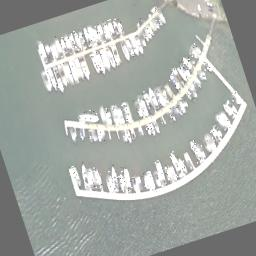boat: (76, 162, 92, 190), (106, 164, 122, 191), (52, 64, 66, 93), (77, 108, 99, 126), (168, 149, 182, 177), (120, 166, 134, 193), (154, 157, 167, 185), (189, 138, 203, 164), (146, 84, 160, 109), (77, 54, 90, 80), (89, 167, 103, 191), (68, 58, 80, 84), (142, 90, 154, 115), (203, 131, 217, 152), (94, 50, 106, 74), (63, 62, 75, 86), (86, 22, 98, 46), (36, 38, 48, 62), (136, 94, 148, 117), (72, 29, 84, 52), (46, 68, 58, 91), (85, 168, 97, 190), (108, 104, 120, 126), (120, 100, 132, 122), (118, 38, 130, 60), (109, 42, 120, 66), (100, 18, 112, 40), (104, 46, 116, 68), (100, 49, 112, 71), (56, 64, 68, 86), (80, 25, 92, 47), (40, 70, 52, 92), (171, 68, 184, 88), (178, 60, 191, 80), (104, 172, 116, 193), (157, 83, 169, 104), (89, 51, 100, 73), (74, 58, 85, 80), (102, 106, 114, 126), (153, 86, 165, 106), (168, 72, 180, 92), (214, 110, 226, 130), (218, 108, 230, 128), (222, 100, 234, 120), (52, 36, 64, 56), (146, 168, 156, 190), (105, 18, 116, 38), (63, 32, 73, 54), (175, 64, 187, 82), (225, 96, 237, 114), (182, 54, 194, 72), (98, 104, 108, 125), (129, 35, 139, 56), (71, 166, 81, 186), (130, 174, 140, 194), (162, 162, 172, 182), (133, 98, 143, 118), (134, 34, 144, 54), (124, 38, 134, 58), (96, 22, 106, 42), (68, 31, 78, 51), (178, 155, 188, 174), (210, 125, 220, 144), (77, 29, 87, 48), (58, 36, 68, 55), (44, 42, 54, 61), (117, 174, 127, 192), (163, 82, 173, 100), (110, 18, 120, 36), (134, 174, 144, 191), (196, 141, 206, 158), (190, 40, 202, 54), (116, 106, 125, 124), (152, 168, 161, 186), (92, 24, 101, 42), (50, 41, 59, 59), (168, 164, 178, 180), (230, 91, 241, 105), (187, 46, 198, 60), (69, 126, 78, 143), (212, 122, 222, 137), (142, 172, 150, 190), (137, 31, 146, 47), (177, 99, 186, 114), (192, 76, 202, 89), (124, 128, 132, 144), (184, 152, 192, 168), (202, 136, 210, 152), (116, 18, 124, 34), (188, 84, 197, 98), (185, 88, 194, 101), (202, 59, 211, 72), (94, 128, 102, 142), (99, 128, 107, 142), (128, 126, 136, 140), (148, 122, 156, 136), (154, 12, 162, 26), (158, 10, 166, 24), (120, 129, 128, 142), (152, 120, 160, 133), (168, 108, 176, 121), (174, 102, 182, 115), (140, 28, 148, 41), (149, 19, 157, 32), (197, 69, 206, 80), (86, 128, 94, 140), (172, 106, 180, 118), (144, 26, 152, 38), (146, 23, 154, 35), (152, 16, 160, 28), (91, 128, 98, 141), (136, 125, 143, 138), (180, 96, 188, 107), (78, 127, 85, 139), (165, 110, 172, 122), (144, 122, 150, 134), (191, 81, 198, 91), (150, 4, 158, 12), (136, 17, 144, 25), (158, 115, 164, 125), (190, 58, 196, 64), (146, 12, 152, 17)
